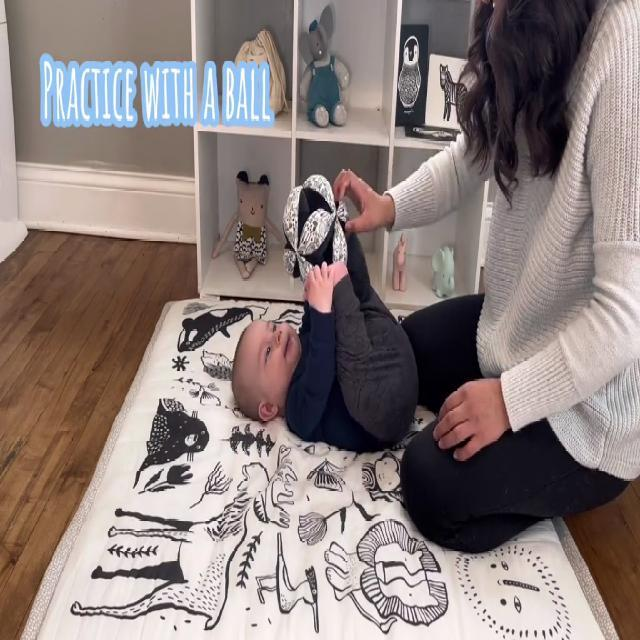baby: (230, 221, 427, 458)
